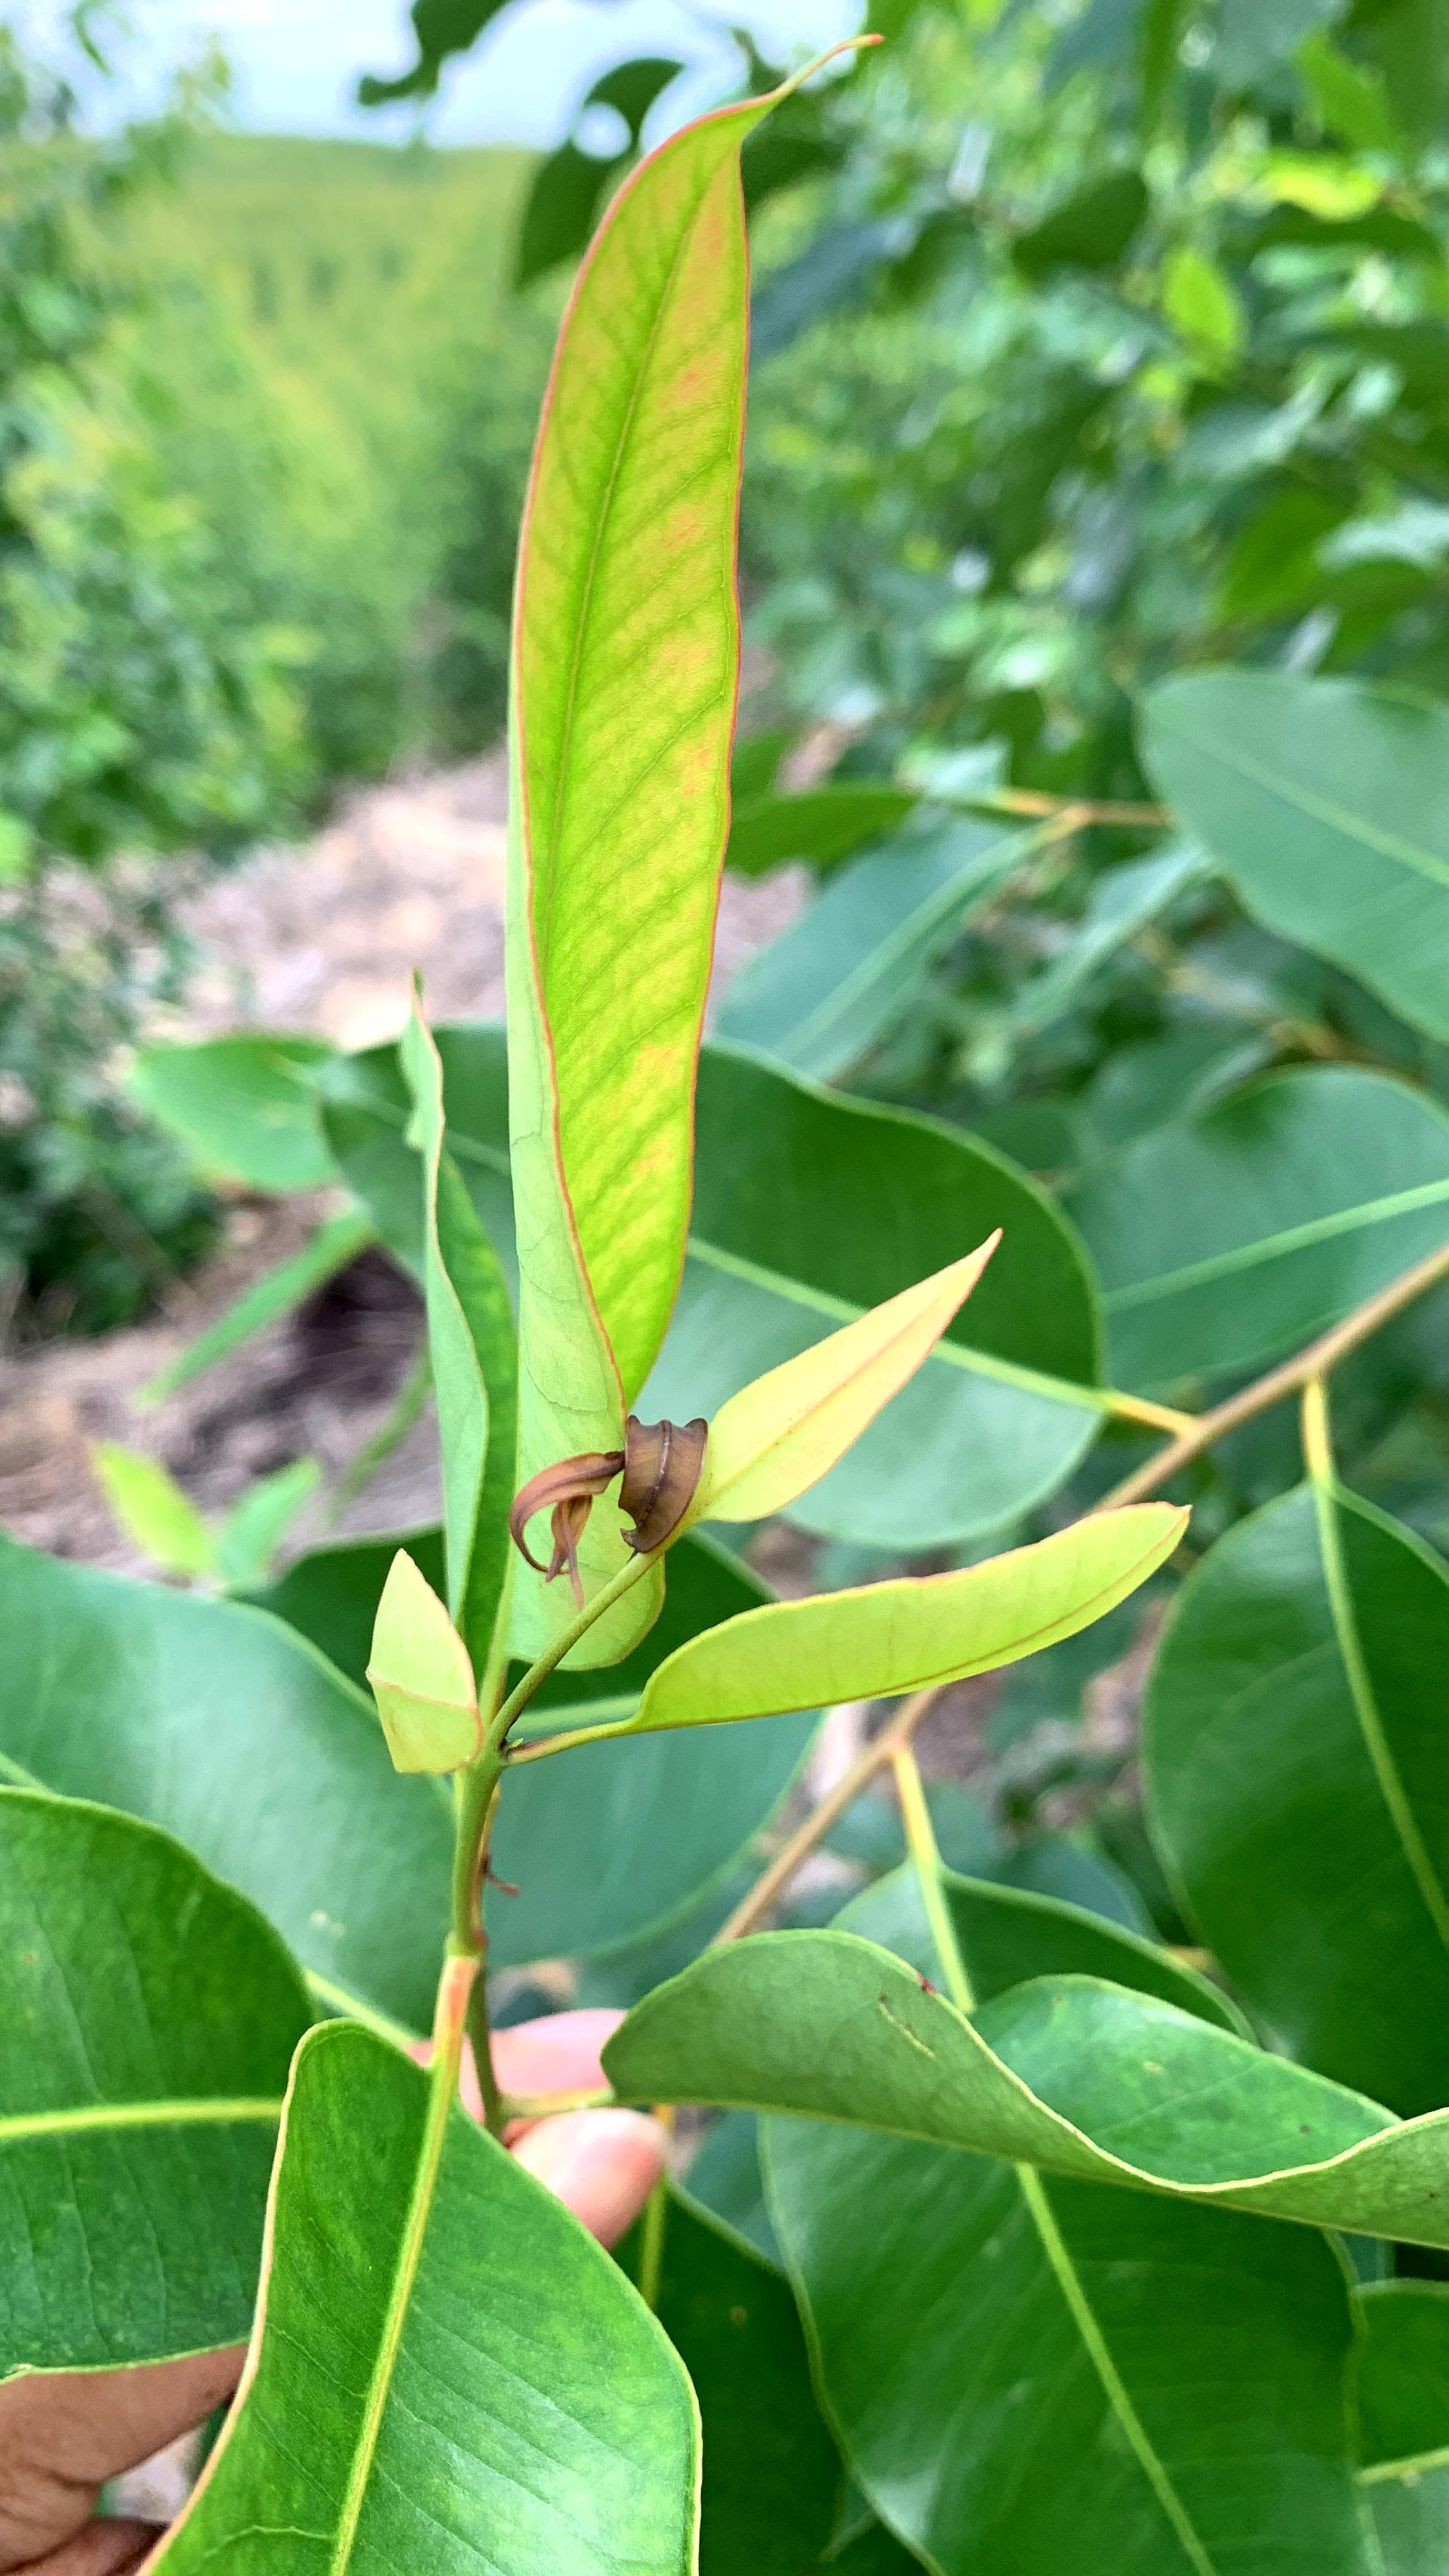Helopeltis-Withered Sprout: (492, 1417, 734, 1585)
